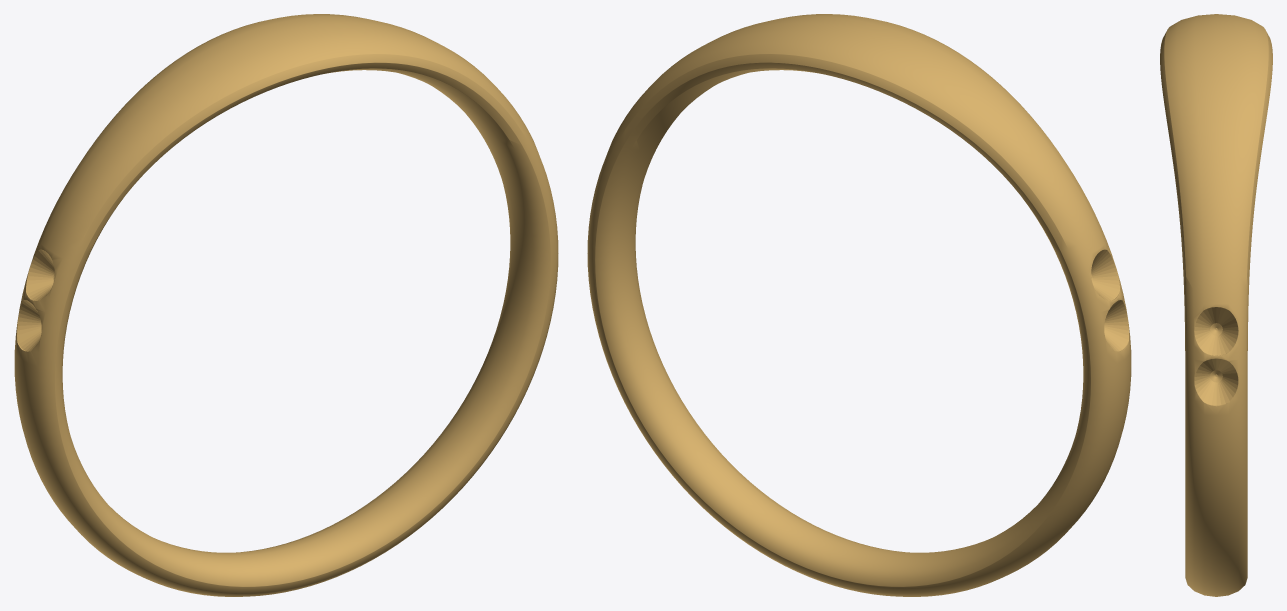
The model's file is reverse-tapered-channel-multi.glb.
The picture shows the model from 3 angles, left to right: view 1: azimuth 30°, elevation 25°; view 2: azimuth 150°, elevation 25°; view 3: azimuth 270°, elevation 25°; orthographic projection. The views are drawn at different scales.
Visible parts, largest first — view 1: Band; view 2: Band; view 3: Band.
Boxes of the visible parts, x1,y1,x2,y2 form: Band: (14,14,558,596); Band: (587,14,1131,596); Band: (1160,14,1272,596).
Size of the model in its own units: 19.6 by 19.6 by 3.8.
